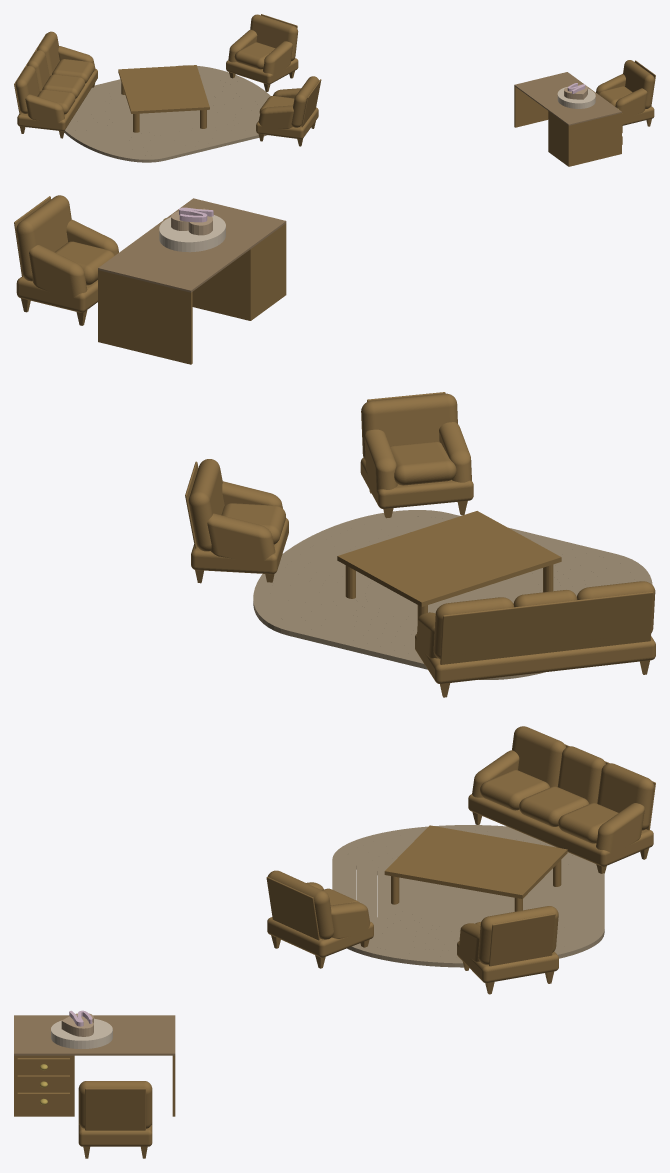
Rendered from house.glb.
3 views of the same model, one above another, from view 1: azimuth 30°, elevation 25°; view 2: azimuth 150°, elevation 25°; view 3: azimuth 270°, elevation 25° (orthographic). The views are drawn at different scales.
Parts seen in each view (by area): view 1: Mesh_Mesh_head_geo.001_lambert2SG.001; view 2: Mesh_Mesh_head_geo.001_lambert2SG.001; view 3: Mesh_Mesh_head_geo.001_lambert2SG.001.
Part boxes in pixels (box(x1,y1,x2,y2)): Mesh_Mesh_head_geo.001_lambert2SG.001: box(14, 14, 655, 166); Mesh_Mesh_head_geo.001_lambert2SG.001: box(14, 195, 655, 697); Mesh_Mesh_head_geo.001_lambert2SG.001: box(14, 726, 655, 1158).
Bounding box in the file's own units: 0.1831 × 0.021 × 0.1391.
